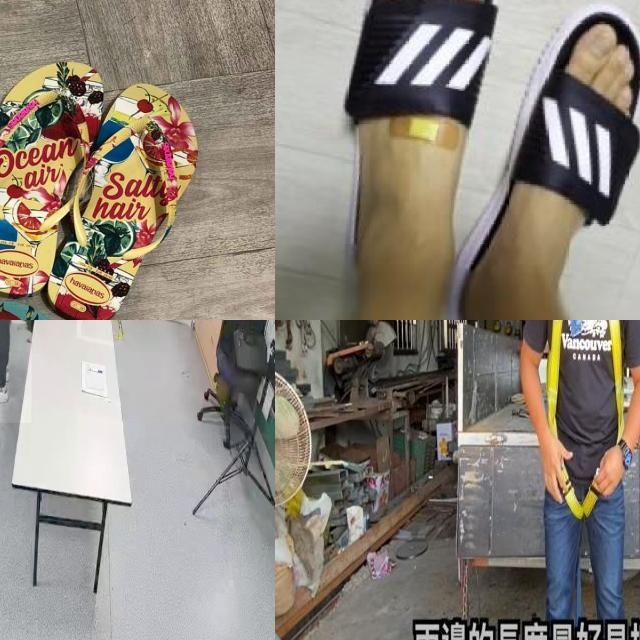Harness: (545, 320, 625, 522)
Sandals: (0, 14, 209, 320), (334, 0, 529, 320), (468, 3, 640, 320)
shoes: (0, 376, 12, 408)
